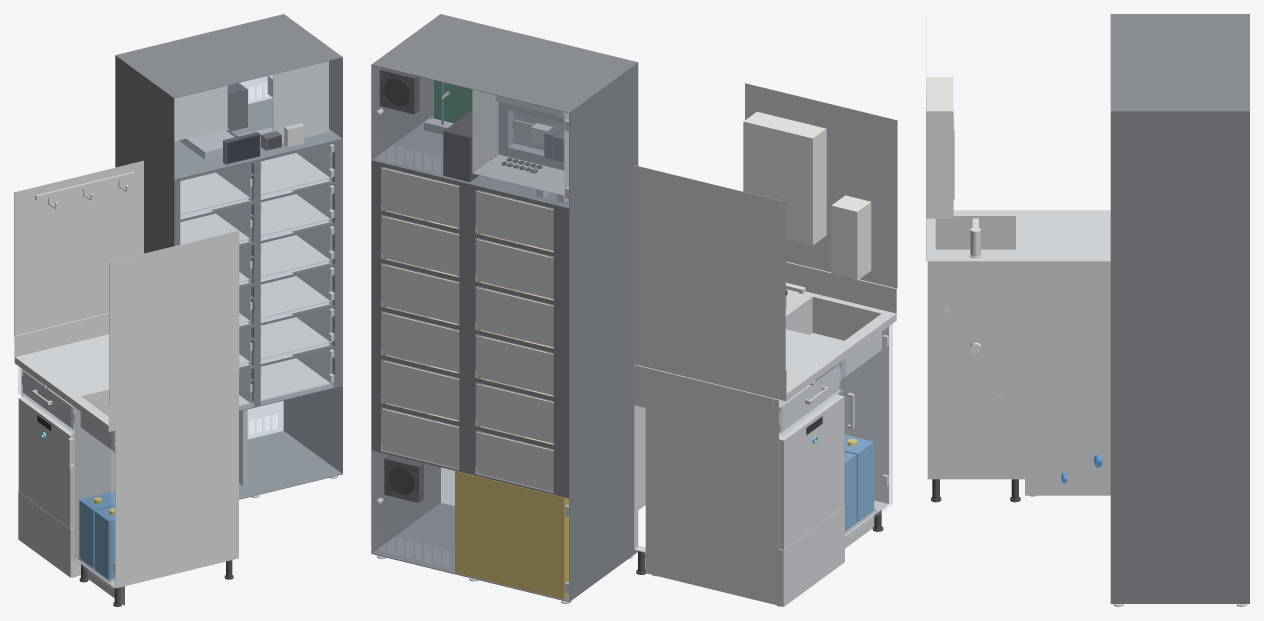
The model's file is modul_S.glb.
3 renders of one model, left to right at view 1: azimuth 30°, elevation 25°; view 2: azimuth 150°, elevation 25°; view 3: azimuth 270°, elevation 25°, orthographic. The views are drawn at different scales.
Visible parts, largest first — view 1: QR_GOVDE__qr_govde, DUZ_TEZGAH_DUVAR__paslanmaz, TEZGAH_GOVDE__paslanmaz, QR_GOVDE__on_seffaf, QR_GOZLER__aluminyum, TEZGAH_BULASIK__paslanmaz, QR_GOZLER__paslanmaz, TEZGAH_GOVDE__on_seffaf, QR_KILIT_KARTI__celik, QR_GOZLER__on_seffaf__GOZ_11_KAPI, QR_GOZLER__on_seffaf__GOZ_50_KAPI, QR_GOZLER__on_seffaf__GOZ_51_KAPI (+21 smaller); view 2: QR_GOVDE__qr_govde, DUZ_TEZGAH_DUVAR__paslanmaz, QR_GOVDE__on_seffaf, TEZGAH_BULASIK__paslanmaz, TEZGAH_GOVDE__paslanmaz, QR_ROBOT_KONTROL__robot_kutu, TEZGAH_HIJYEN__beyaz_abs, TEZGAH_GOVDE__on_seffaf, ELK_ANA_PANO__on_seffaf, ELK_ANA_PANO__pano, TEZGAH_EVYE__paslanmaz, QR_GOZLER__kapak_pc__GOZ_00_KAPAK (+22 smaller); view 3: QR_GOVDE__qr_govde, TEZGAH_GOVDE__paslanmaz, TEZGAH_HIJYEN__beyaz_abs, TEZGAH_BULASIK__paslanmaz, TEZGAH_EVYE__paslanmaz, TEZGAH_EVYE__krom.
Part boxes in pixels (x1,y1,x2,y2): QR_GOVDE__qr_govde: (115, 14, 342, 499); DUZ_TEZGAH_DUVAR__paslanmaz: (14, 160, 239, 405); TEZGAH_GOVDE__paslanmaz: (14, 314, 238, 605); QR_GOVDE__on_seffaf: (174, 58, 342, 498); QR_GOZLER__aluminyum: (180, 153, 330, 405); TEZGAH_BULASIK__paslanmaz: (18, 396, 80, 577); QR_GOZLER__paslanmaz: (180, 145, 330, 406); TEZGAH_GOVDE__on_seffaf: (71, 405, 114, 587); QR_KILIT_KARTI__celik: (273, 61, 328, 143); QR_GOZLER__on_seffaf__GOZ_11_KAPI: (261, 308, 334, 363); QR_GOZLER__on_seffaf__GOZ_50_KAPI: (180, 163, 253, 218); QR_GOZLER__on_seffaf__GOZ_51_KAPI: (261, 144, 334, 199); QR_GOVDE__qr_govde: (371, 14, 638, 601); DUZ_TEZGAH_DUVAR__paslanmaz: (633, 83, 897, 370); QR_GOVDE__on_seffaf: (372, 65, 568, 600); TEZGAH_BULASIK__paslanmaz: (645, 394, 844, 606); TEZGAH_GOVDE__paslanmaz: (634, 262, 896, 552); QR_ROBOT_KONTROL__robot_kutu: (455, 471, 568, 599); TEZGAH_HIJYEN__beyaz_abs: (743, 111, 871, 280); TEZGAH_GOVDE__on_seffaf: (842, 324, 892, 538); ELK_ANA_PANO__on_seffaf: (473, 90, 563, 195); ELK_ANA_PANO__pano: (472, 90, 568, 195); TEZGAH_EVYE__paslanmaz: (785, 296, 881, 378); QR_GOZLER__kapak_pc__GOZ_00_KAPAK: (476, 431, 553, 491); QR_GOVDE__qr_govde: (1110, 14, 1249, 603); TEZGAH_GOVDE__paslanmaz: (927, 210, 1110, 479); TEZGAH_HIJYEN__beyaz_abs: (926, 77, 954, 218); TEZGAH_BULASIK__paslanmaz: (1025, 443, 1110, 495); TEZGAH_EVYE__paslanmaz: (935, 215, 1016, 249); TEZGAH_EVYE__krom: (969, 218, 1004, 397).
Bounding box in the file's own units: 1.6 × 2.05 × 1.21.
